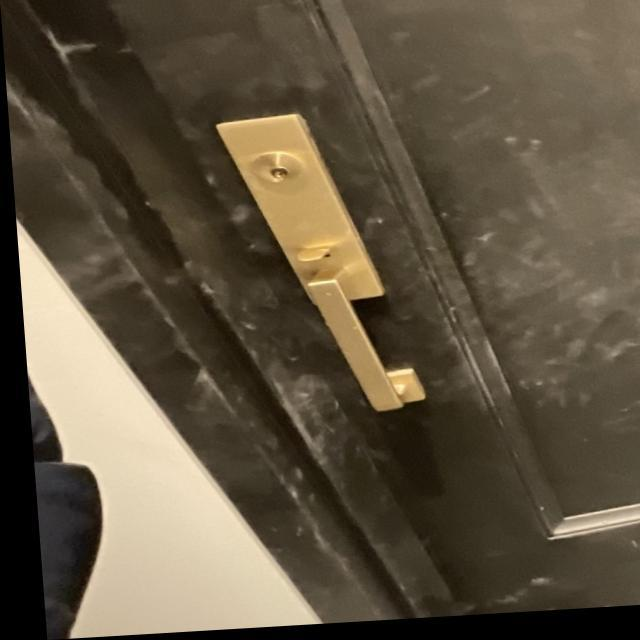door_handle: (289, 267, 438, 428)
